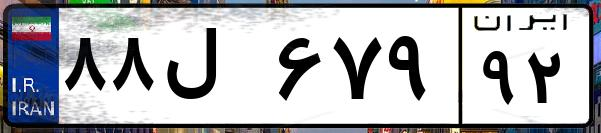2: (525, 38, 570, 115)
6: (270, 28, 330, 110)
7: (330, 28, 385, 110)
8: (57, 26, 110, 100), (110, 28, 158, 98)
9: (385, 28, 445, 110), (475, 38, 525, 113)
ل: (158, 20, 270, 120)
